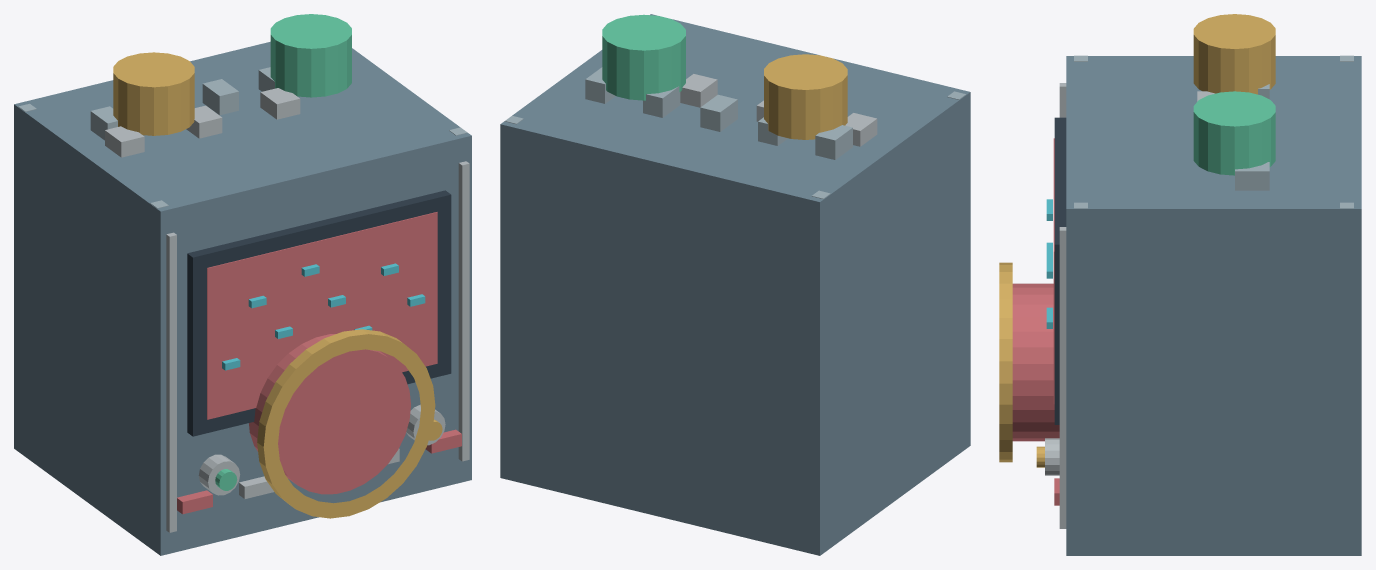
File: 49_L72_EmergencyDepositionSafetyStation.glb
3 renders of one model, left to right at view 1: azimuth 30°, elevation 25°; view 2: azimuth 150°, elevation 25°; view 3: azimuth 270°, elevation 25°, orthographic. The views are drawn at different scales.
Parts seen in each view (by area): view 1: EmergencyDepositionSafetyStation_Part_000, EmergencyDepositionSafetyStation_Part_008, EmergencyDepositionSafetyStation_Part_034, EmergencyDepositionSafetyStation_Part_007, EmergencyDepositionSafetyStation_Part_035, EmergencyDepositionSafetyStation_Part_037, EmergencyDepositionSafetyStation_Part_036, EmergencyDepositionSafetyStation_Part_006, EmergencyDepositionSafetyStation_Part_005, EmergencyDepositionSafetyStation_Part_026, EmergencyDepositionSafetyStation_Part_023, EmergencyDepositionSafetyStation_Part_021 (+5 smaller); view 2: EmergencyDepositionSafetyStation_Part_000, EmergencyDepositionSafetyStation_Part_036, EmergencyDepositionSafetyStation_Part_037, EmergencyDepositionSafetyStation_Part_026, EmergencyDepositionSafetyStation_Part_024, EmergencyDepositionSafetyStation_Part_023, EmergencyDepositionSafetyStation_Part_027, EmergencyDepositionSafetyStation_Part_021, EmergencyDepositionSafetyStation_Part_028; view 3: EmergencyDepositionSafetyStation_Part_000, EmergencyDepositionSafetyStation_Part_034, EmergencyDepositionSafetyStation_Part_037, EmergencyDepositionSafetyStation_Part_036, EmergencyDepositionSafetyStation_Part_035, EmergencyDepositionSafetyStation_Part_007, EmergencyDepositionSafetyStation_Part_006, EmergencyDepositionSafetyStation_Part_028, EmergencyDepositionSafetyStation_Part_019, EmergencyDepositionSafetyStation_Part_008.
Part boxes in pixels (x1,y1,x2,y2): EmergencyDepositionSafetyStation_Part_000: [14, 41, 471, 555]; EmergencyDepositionSafetyStation_Part_008: [207, 212, 437, 419]; EmergencyDepositionSafetyStation_Part_034: [249, 334, 410, 494]; EmergencyDepositionSafetyStation_Part_007: [187, 190, 451, 436]; EmergencyDepositionSafetyStation_Part_035: [257, 329, 435, 518]; EmergencyDepositionSafetyStation_Part_037: [270, 14, 351, 97]; EmergencyDepositionSafetyStation_Part_036: [113, 52, 194, 135]; EmergencyDepositionSafetyStation_Part_006: [458, 161, 469, 461]; EmergencyDepositionSafetyStation_Part_005: [166, 232, 176, 532]; EmergencyDepositionSafetyStation_Part_026: [202, 79, 238, 115]; EmergencyDepositionSafetyStation_Part_023: [260, 88, 300, 119]; EmergencyDepositionSafetyStation_Part_021: [105, 126, 144, 157]; EmergencyDepositionSafetyStation_Part_000: [500, 14, 970, 555]; EmergencyDepositionSafetyStation_Part_036: [764, 54, 847, 139]; EmergencyDepositionSafetyStation_Part_037: [602, 14, 685, 100]; EmergencyDepositionSafetyStation_Part_026: [700, 94, 737, 131]; EmergencyDepositionSafetyStation_Part_024: [815, 125, 852, 159]; EmergencyDepositionSafetyStation_Part_023: [680, 74, 717, 107]; EmergencyDepositionSafetyStation_Part_027: [643, 86, 680, 117]; EmergencyDepositionSafetyStation_Part_021: [845, 113, 877, 146]; EmergencyDepositionSafetyStation_Part_028: [585, 67, 615, 103]; EmergencyDepositionSafetyStation_Part_000: [1066, 56, 1361, 555]; EmergencyDepositionSafetyStation_Part_034: [1012, 283, 1059, 441]; EmergencyDepositionSafetyStation_Part_037: [1193, 91, 1275, 175]; EmergencyDepositionSafetyStation_Part_036: [1193, 14, 1275, 94]; EmergencyDepositionSafetyStation_Part_035: [999, 262, 1012, 462]; EmergencyDepositionSafetyStation_Part_007: [1054, 117, 1066, 424]; EmergencyDepositionSafetyStation_Part_006: [1059, 227, 1066, 528]; EmergencyDepositionSafetyStation_Part_028: [1235, 162, 1269, 190]; EmergencyDepositionSafetyStation_Part_019: [1045, 438, 1059, 475]; EmergencyDepositionSafetyStation_Part_008: [1053, 138, 1054, 404].
Size of the model in its own units: 0.87 by 1.08 by 0.871.
